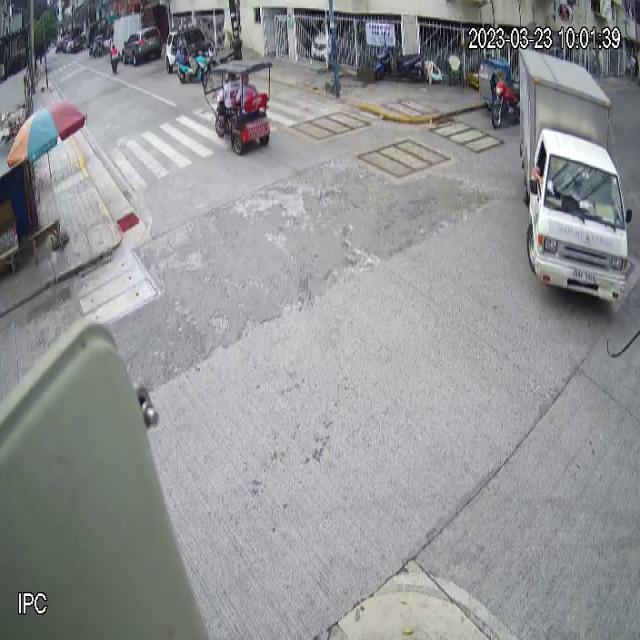Truck: (519, 46, 632, 303)
